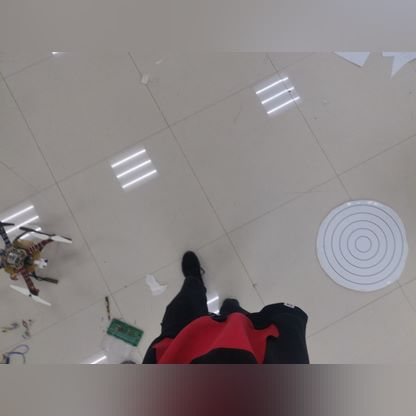W: (314, 194, 405, 286)
